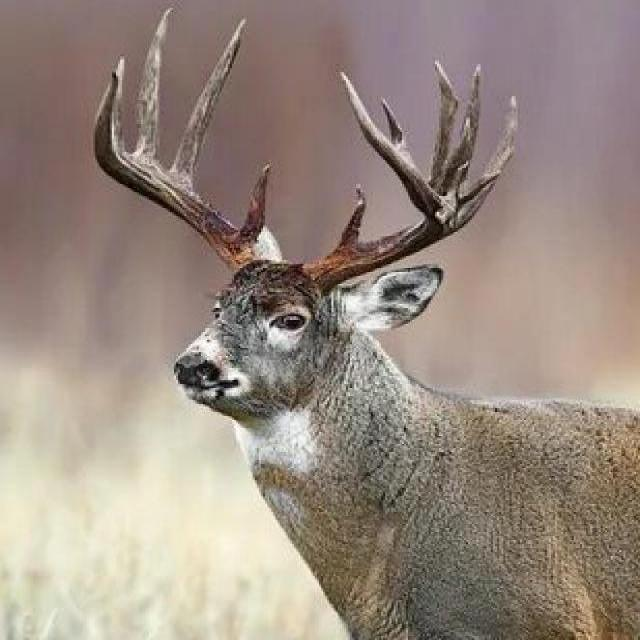deer: (107, 68, 640, 639)
